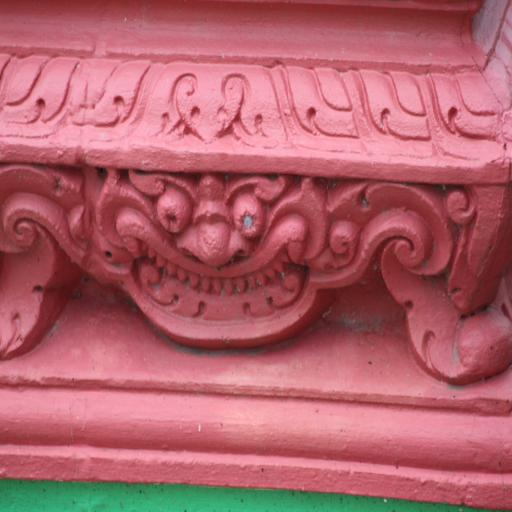la: (139, 57, 279, 147), (280, 56, 366, 150), (433, 60, 512, 148), (361, 60, 436, 149), (65, 54, 136, 134), (0, 54, 68, 132)
